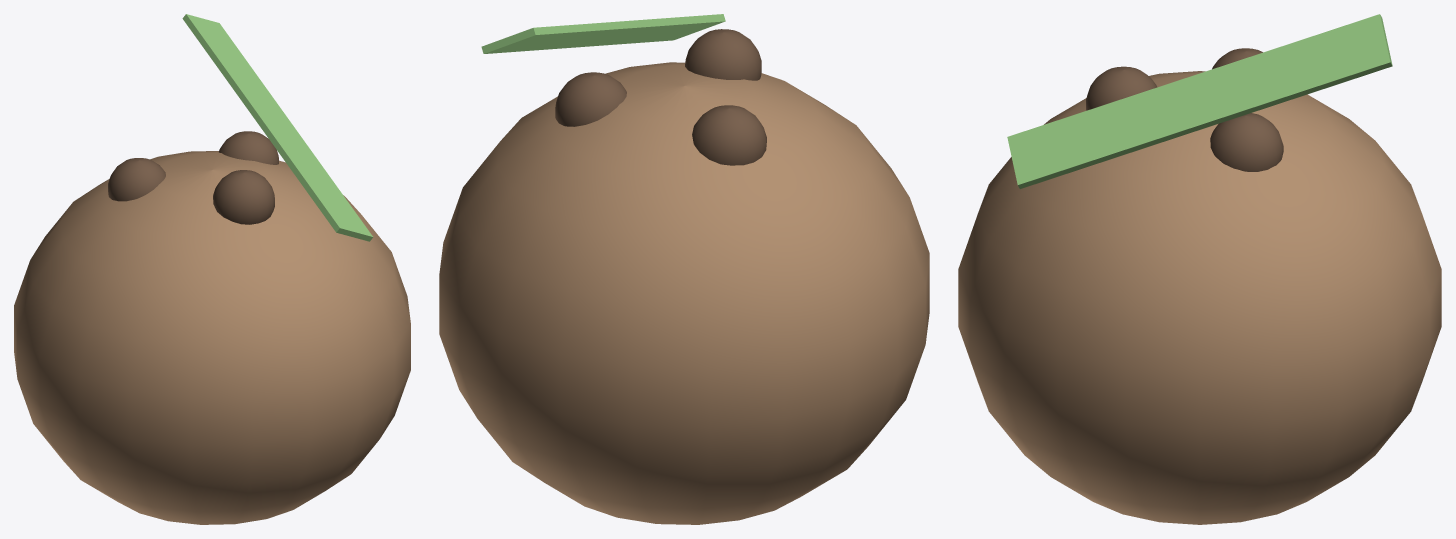
File: dua_roi.glb
3 views of the same model, side by side, from view 1: azimuth 30°, elevation 25°; view 2: azimuth 150°, elevation 25°; view 3: azimuth 270°, elevation 25° (orthographic). The views are drawn at different scales.
Parts seen in each view (by area): view 1: Sph1, Box1, Sph2, Sph4, Sph3; view 2: Sph1, Box1, Sph4, Sph2, Sph3; view 3: Sph1, Box1, Sph3, Sph2.
Part boxes in pixels (box(x1,y1,x2,y2)): Sph1: box(14, 151, 410, 524); Box1: box(182, 14, 372, 241); Sph2: box(213, 170, 274, 224); Sph4: box(108, 158, 165, 201); Sph3: box(219, 131, 278, 164); Sph1: box(439, 62, 929, 524); Box1: box(481, 14, 725, 53); Sph4: box(692, 105, 766, 165); Sph2: box(685, 29, 761, 80); Sph3: box(555, 72, 626, 126); Sph1: box(958, 71, 1441, 524); Box1: box(1007, 14, 1392, 188); Sph3: box(1210, 113, 1283, 171); Sph2: box(1086, 66, 1157, 110).
Size of the model in its own units: 0.3167 by 0.3731 by 0.3167.
